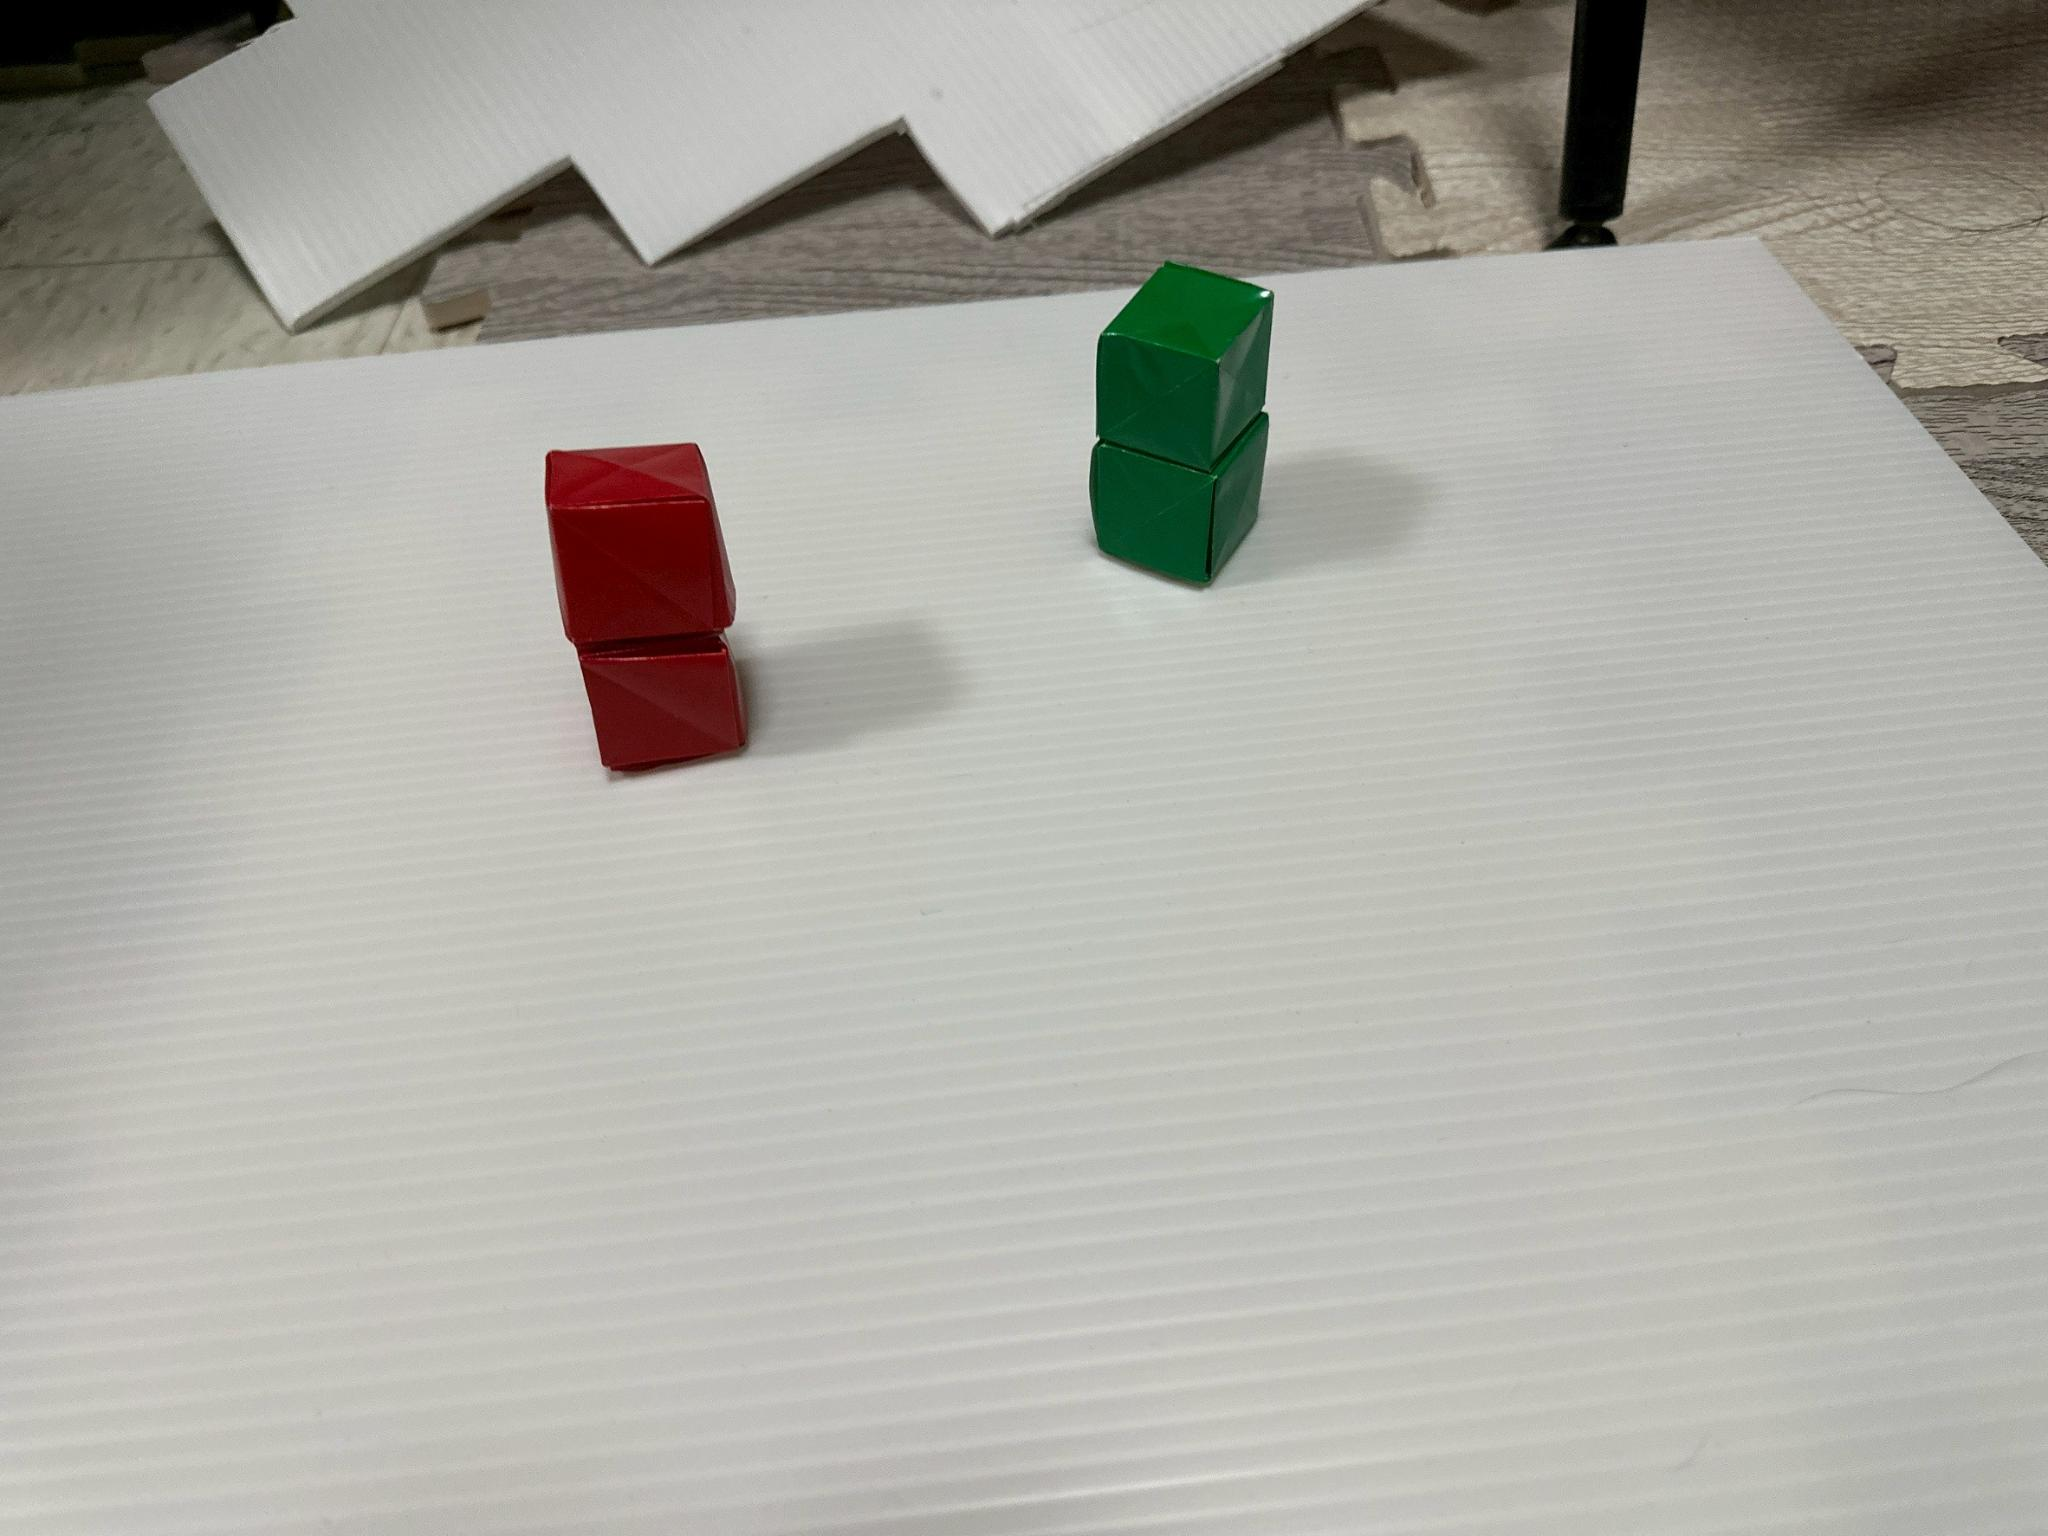cube: (545, 444, 735, 650), (1097, 266, 1272, 468), (1090, 413, 1268, 582), (579, 637, 747, 770)
